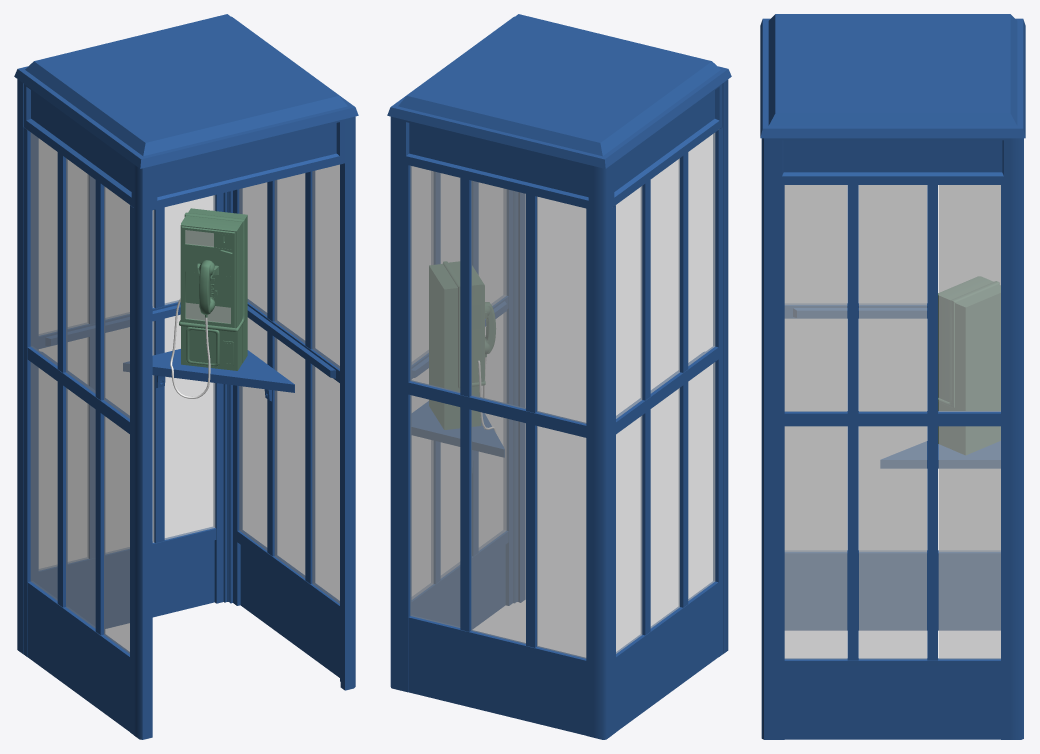
Rendered from payphone_ER.fbx.
3 views of the same model, side by side, from view 1: azimuth 30°, elevation 25°; view 2: azimuth 150°, elevation 25°; view 3: azimuth 270°, elevation 25° (orthographic). The views are drawn at different scales.
Parts seen in each view (by area): view 1: bolt_low001; view 2: bolt_low001; view 3: bolt_low001.
Part boxes in pixels (<box>): bolt_low001: <box>14,14,358,739</box>; bolt_low001: <box>387,14,731,739</box>; bolt_low001: <box>760,14,1025,739</box>.
Size of the model in its own units: 28.41 by 73.33 by 28.41.
